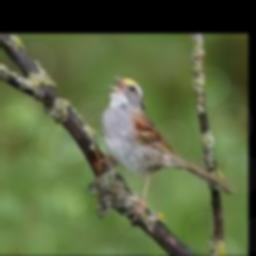Sparrow: (100, 74, 232, 224)
